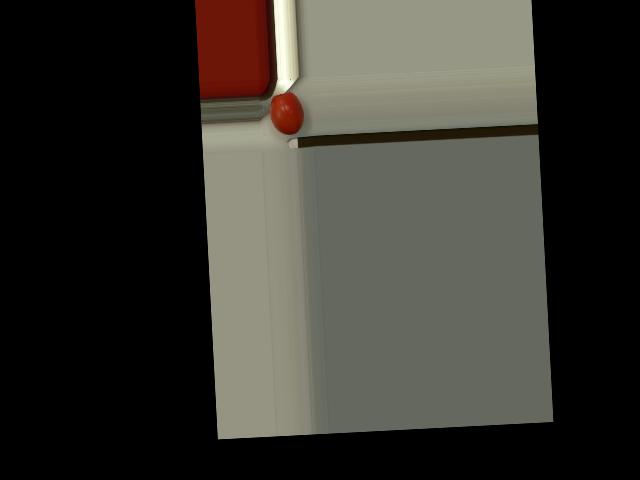tomato: (268, 91, 305, 135)
